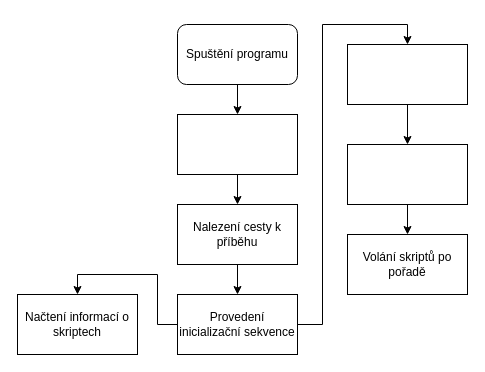
The diagram is 485 pixels wide and 372 high, and some of its shapes have lost their labels. Each missing label, with the centre of its shape:
Načtená momentálnáho souboru s příběhem: point (407, 174)
Načtení cest k částem příběhu: point (407, 74)
Načtení iniciálního stavu: point (237, 144)
